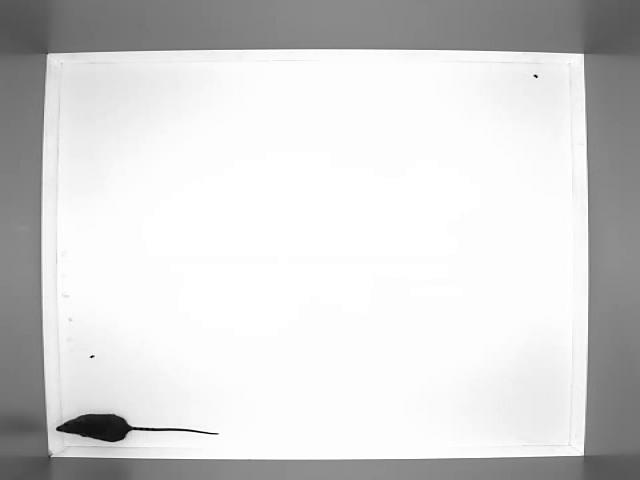Tikus: (56, 408, 227, 451)
